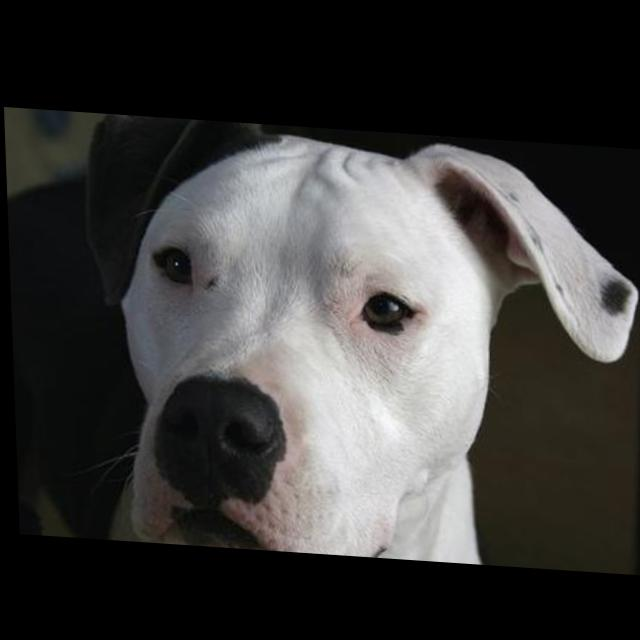amstaff: (5, 108, 640, 567)
